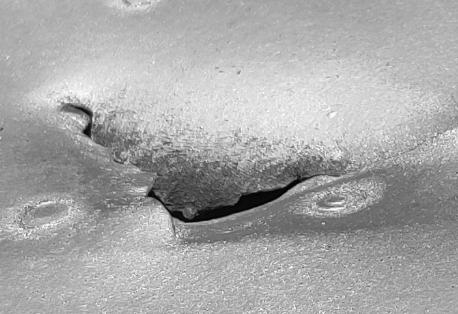crack: (1, 1, 458, 314)
